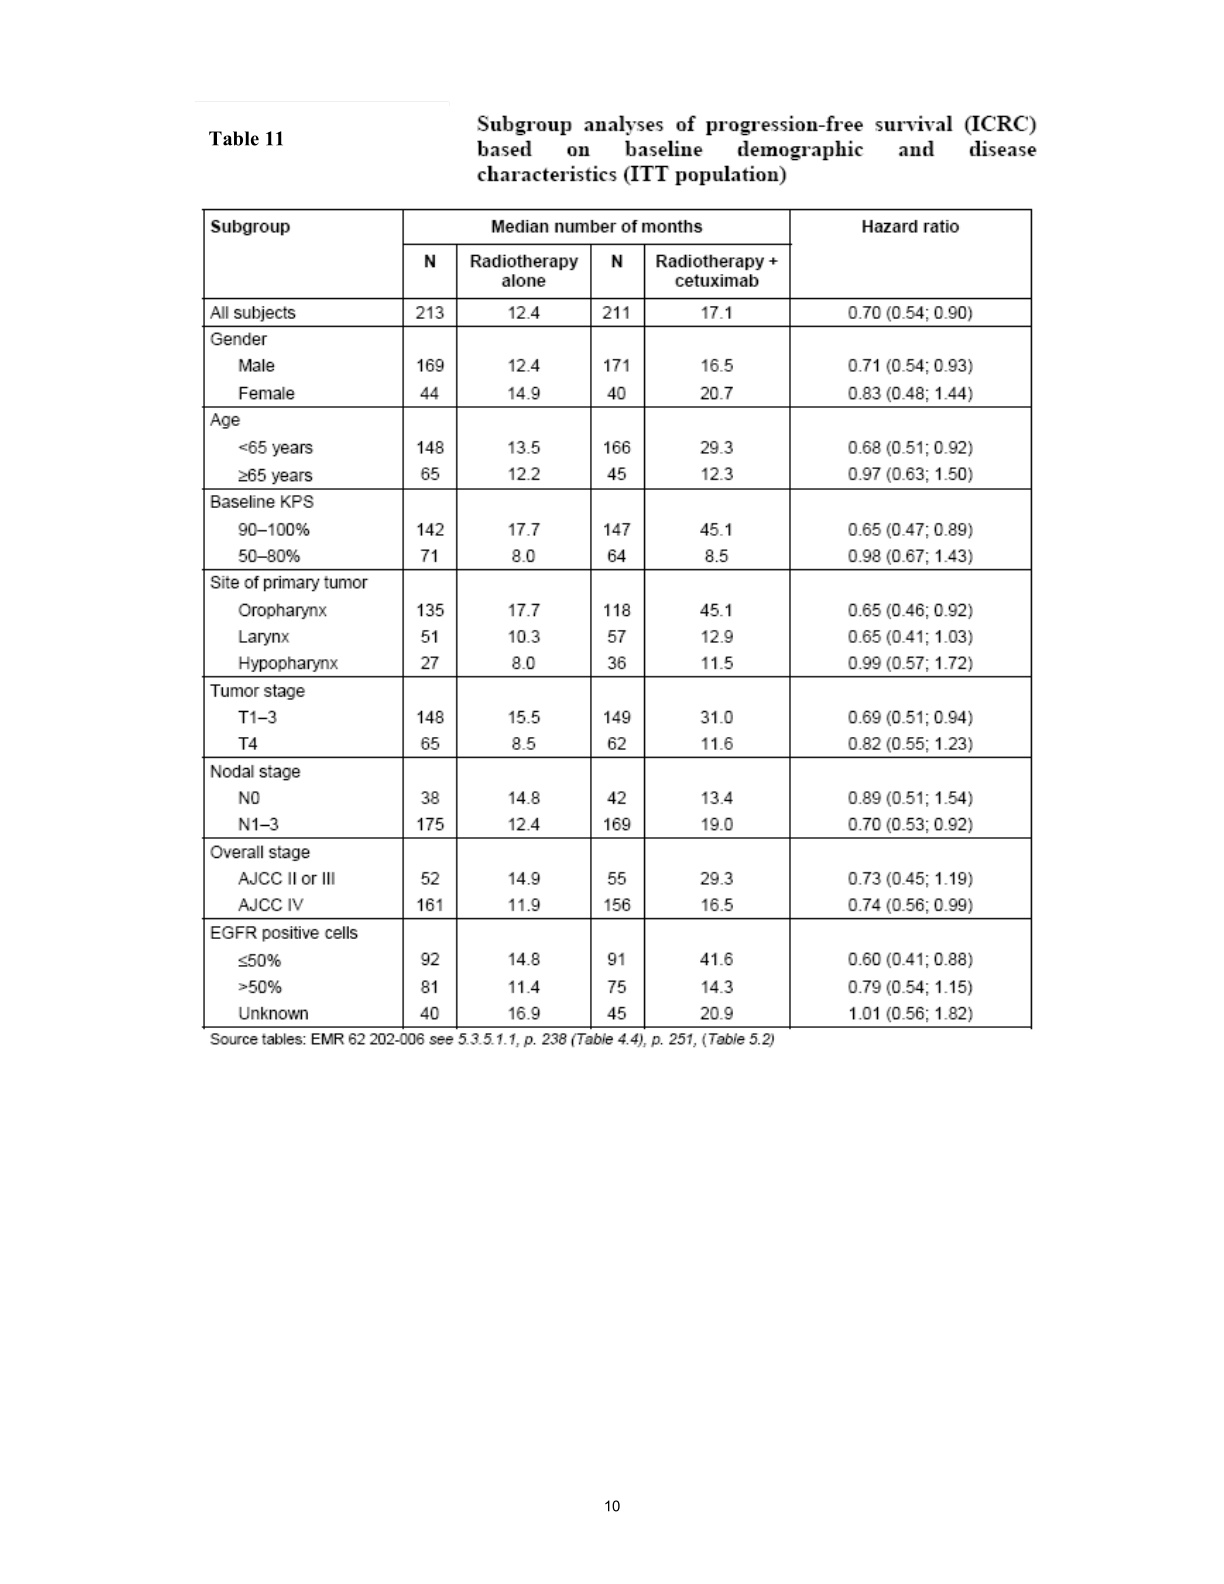merged_cells: (202, 208, 1034, 1031)
